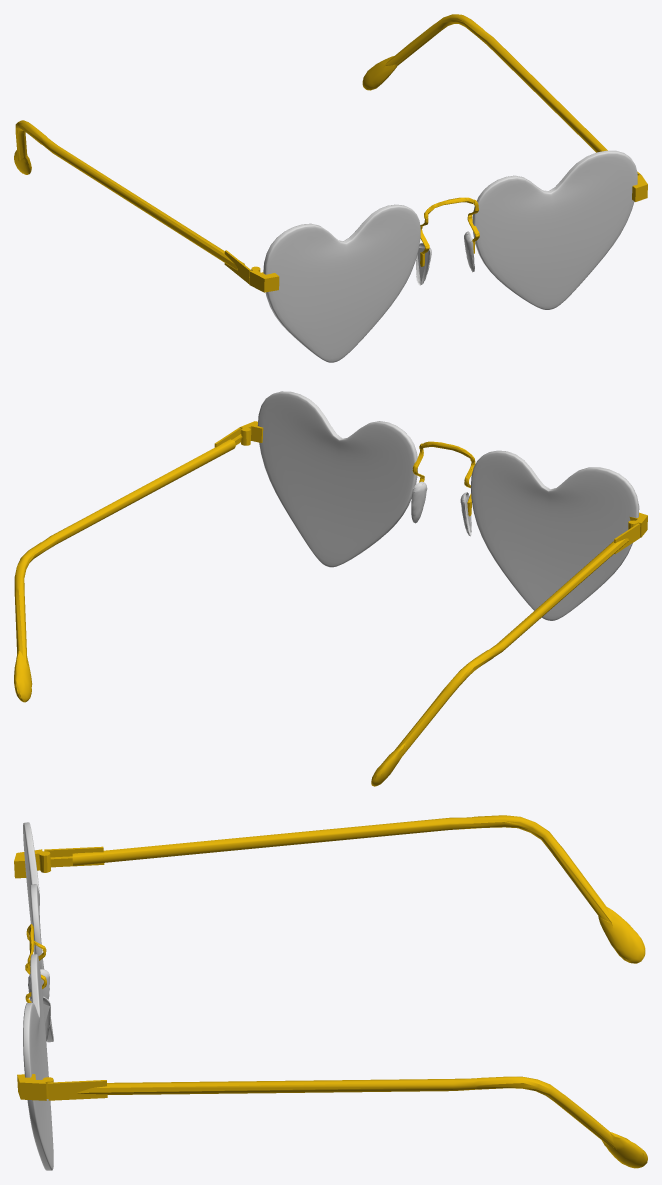
The model's file is Lovely.glb.
3 renders of one model, top to bottom at view 1: azimuth 30°, elevation 25°; view 2: azimuth 150°, elevation 25°; view 3: azimuth 270°, elevation 25°, orthographic. The views are drawn at different scales.
Visible parts, largest first — view 1: Lovely; view 2: Lovely; view 3: Lovely.
Boxes of the visible parts, bbox=[...] form: Lovely: bbox=[14, 14, 647, 362]; Lovely: bbox=[14, 391, 647, 786]; Lovely: bbox=[14, 815, 647, 1170].
Size of the model in its own units: 15.92 by 5.2 by 16.05.
